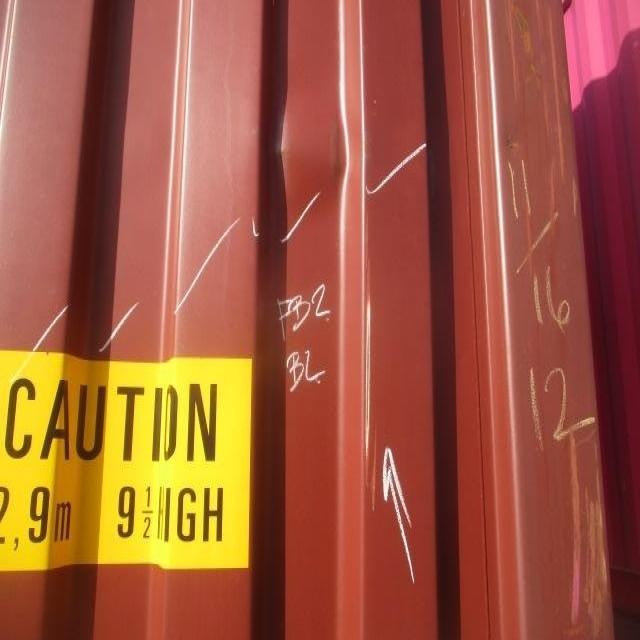dent: (254, 63, 371, 251)
